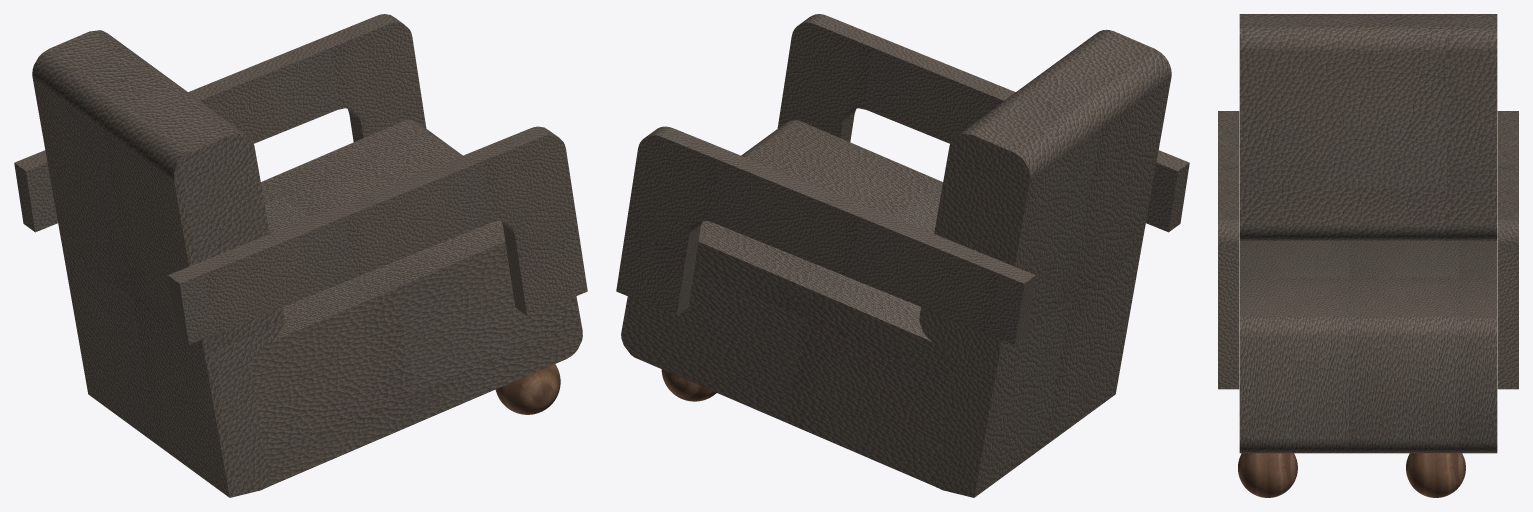
File: SPHERES LOUNGE CHAIR (1).glb
3 views of the same model, side by side, from view 1: azimuth 30°, elevation 25°; view 2: azimuth 150°, elevation 25°; view 3: azimuth 270°, elevation 25° (orthographic). The views are drawn at different scales.
Size of the model in its own units: 1.02 by 0.8487 by 0.7017.
Materials: 2 (2 with a texture image).
